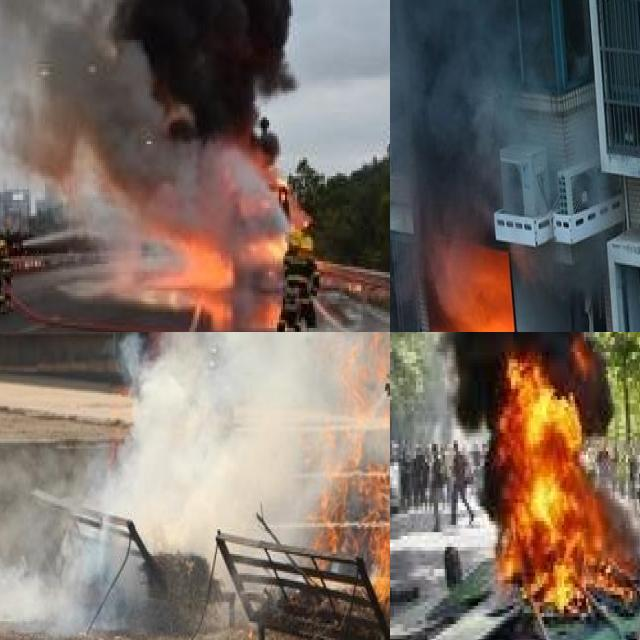fire: (469, 344, 640, 609), (155, 152, 285, 307), (321, 332, 390, 624), (424, 240, 523, 332)
smoke: (0, 332, 390, 636), (0, 0, 289, 221), (390, 0, 535, 233), (414, 332, 640, 433)
